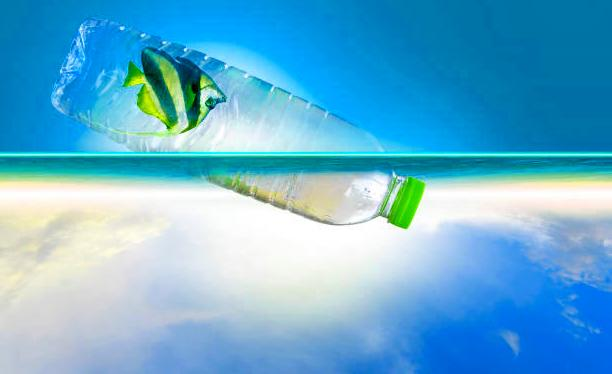Plastic: (50, 20, 422, 231)
